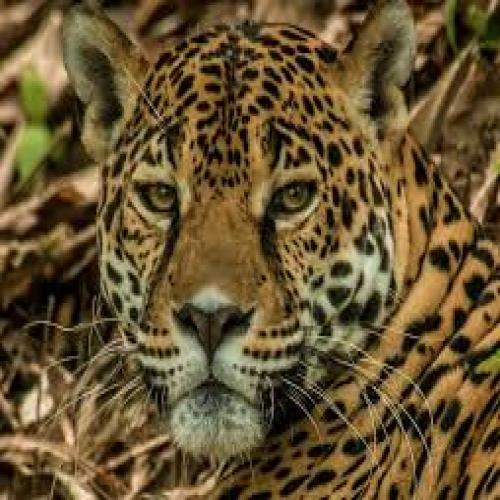jaguar_not-endangered: (80, 19, 475, 475)
